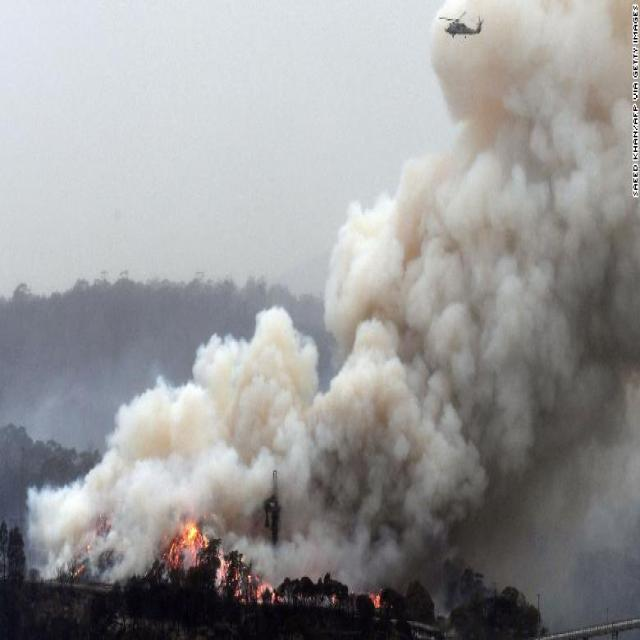Fire: (143, 516, 272, 604)
Smoke: (435, 291, 638, 611), (436, 0, 630, 289), (305, 163, 435, 582), (142, 298, 304, 515), (20, 394, 140, 590)
